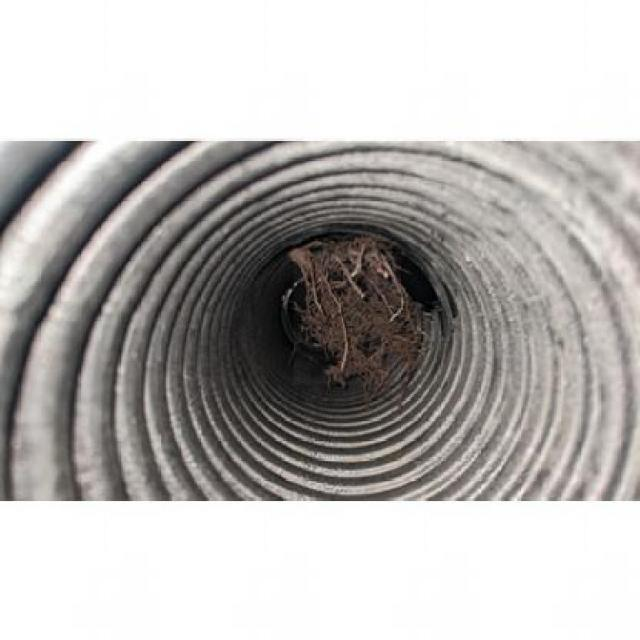root: (282, 243, 436, 393)
